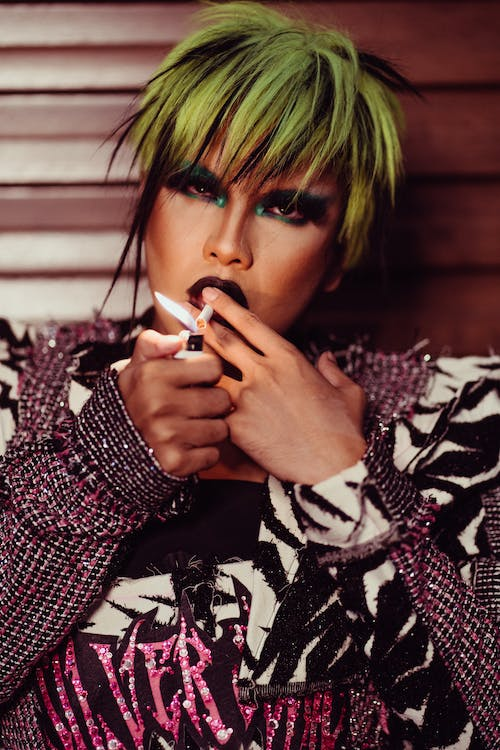cigarette: (193, 304, 215, 332)
